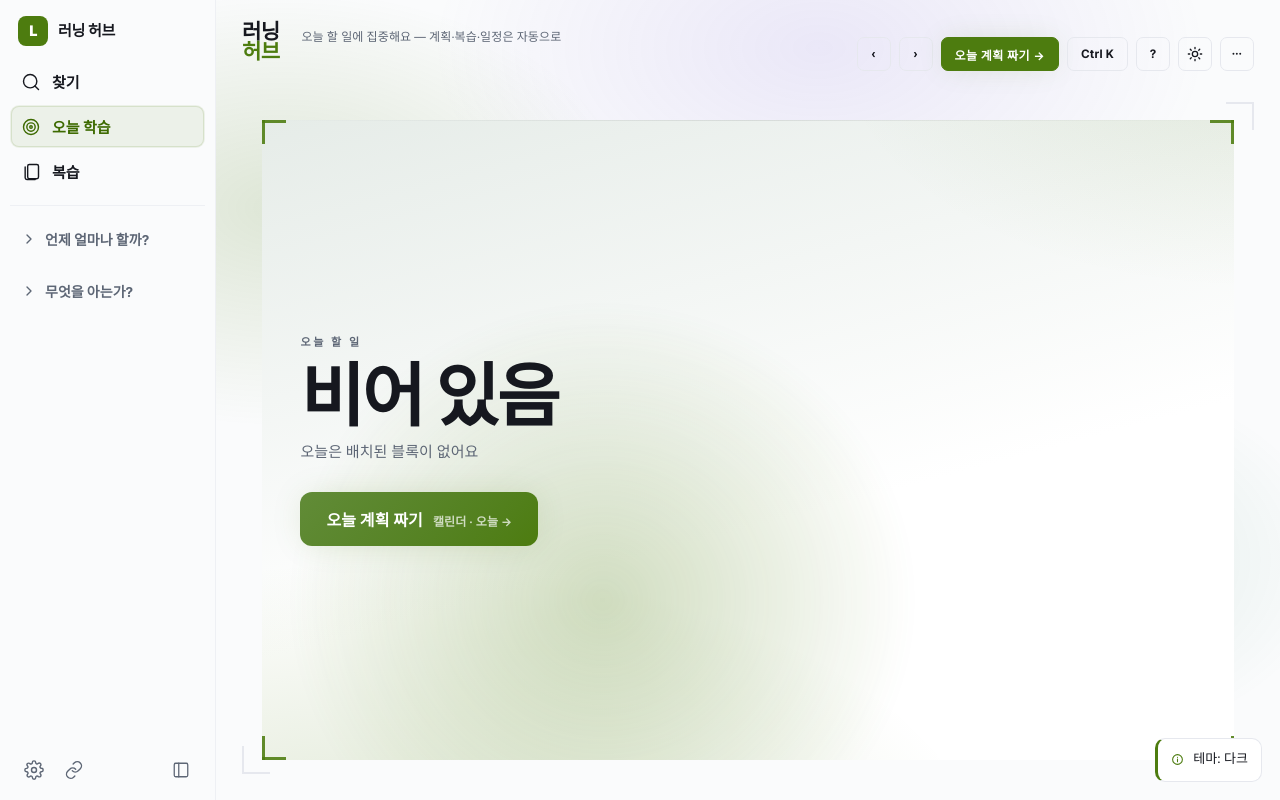
Test case: 확인 모달: 전체 초기화 → 취소하면 데이터가 유지된다
Click the button named "데이터·백업 메뉴" at (1237, 54), box [1220,37,1254,71]
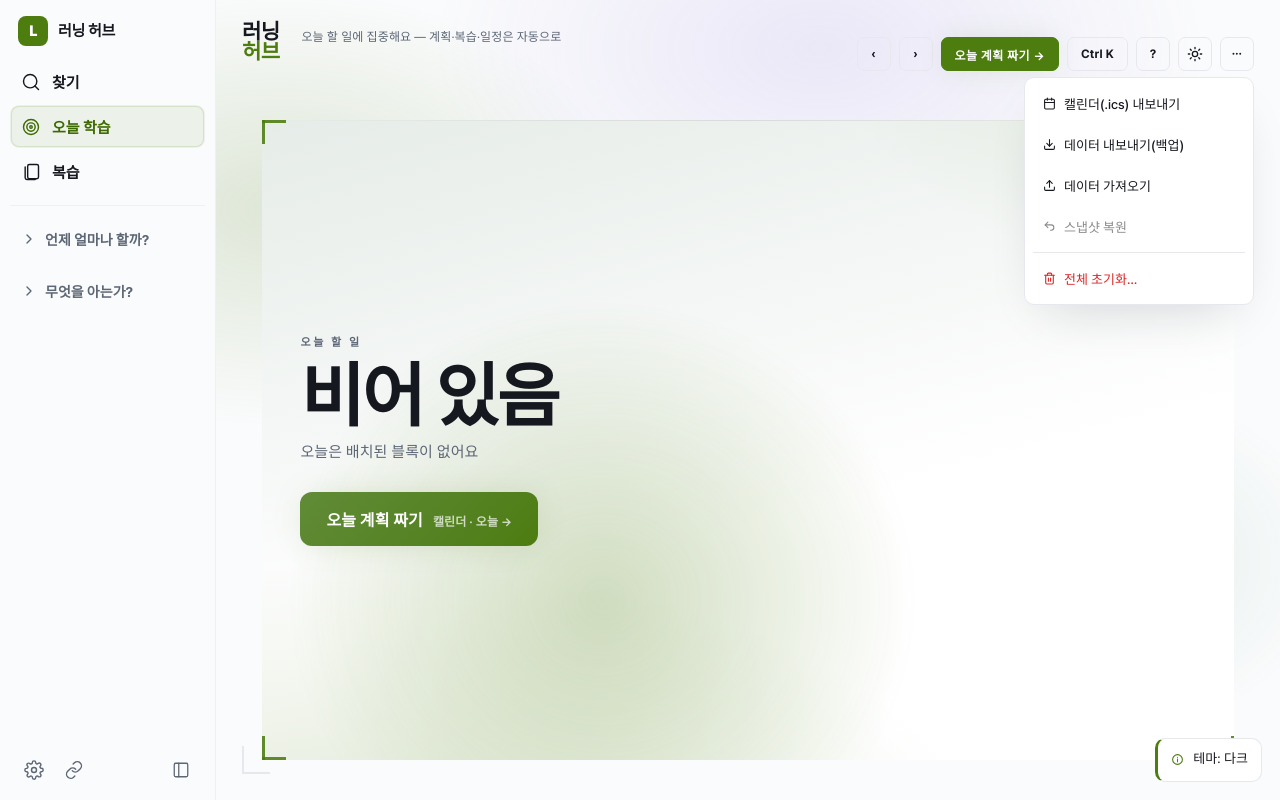
Click the button "전체 초기화…" at (1139, 278), box [1031,259,1247,298]
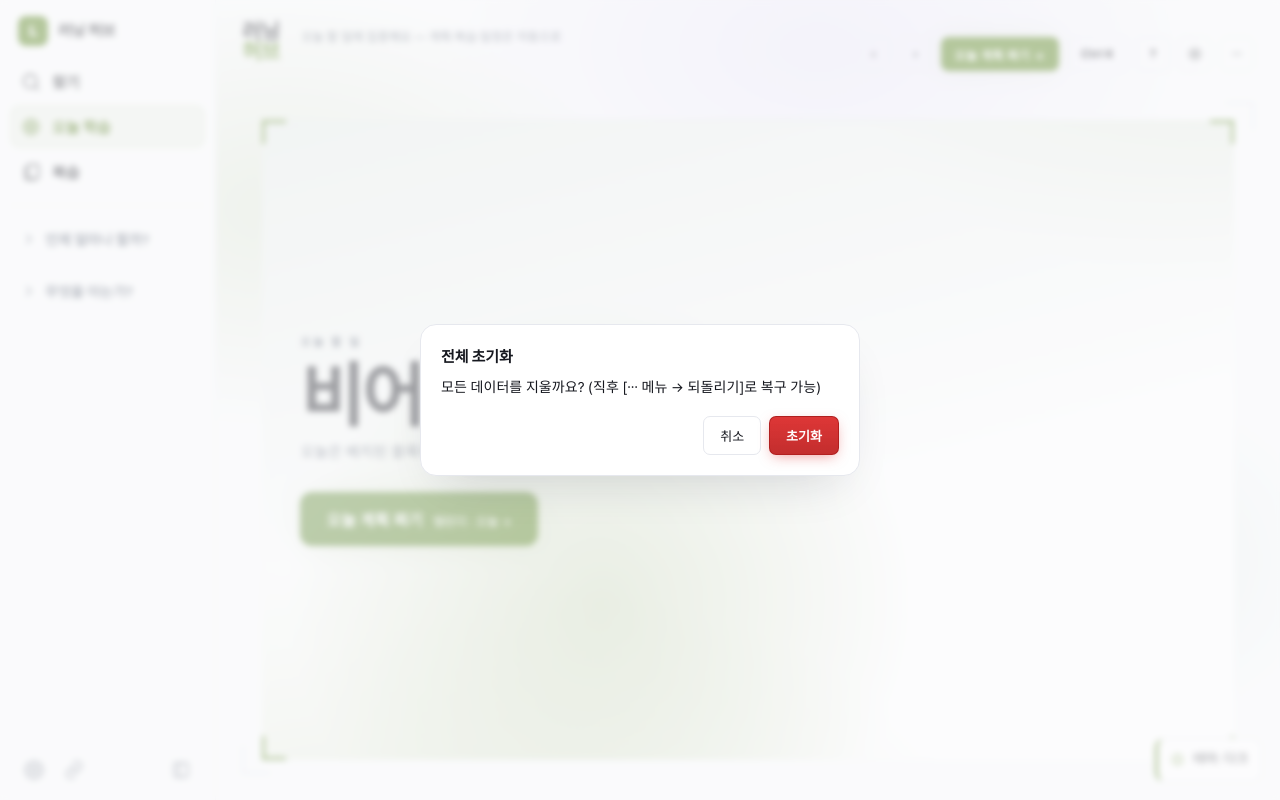
Expected: the text "모든 데이터를 지울까요? (직후 [⋯ 메뉴 → 되돌리기]로 복구 가능)" is shown, [441,376,839,398]
Click the button "취소" at (732, 436), box [703,416,761,455]
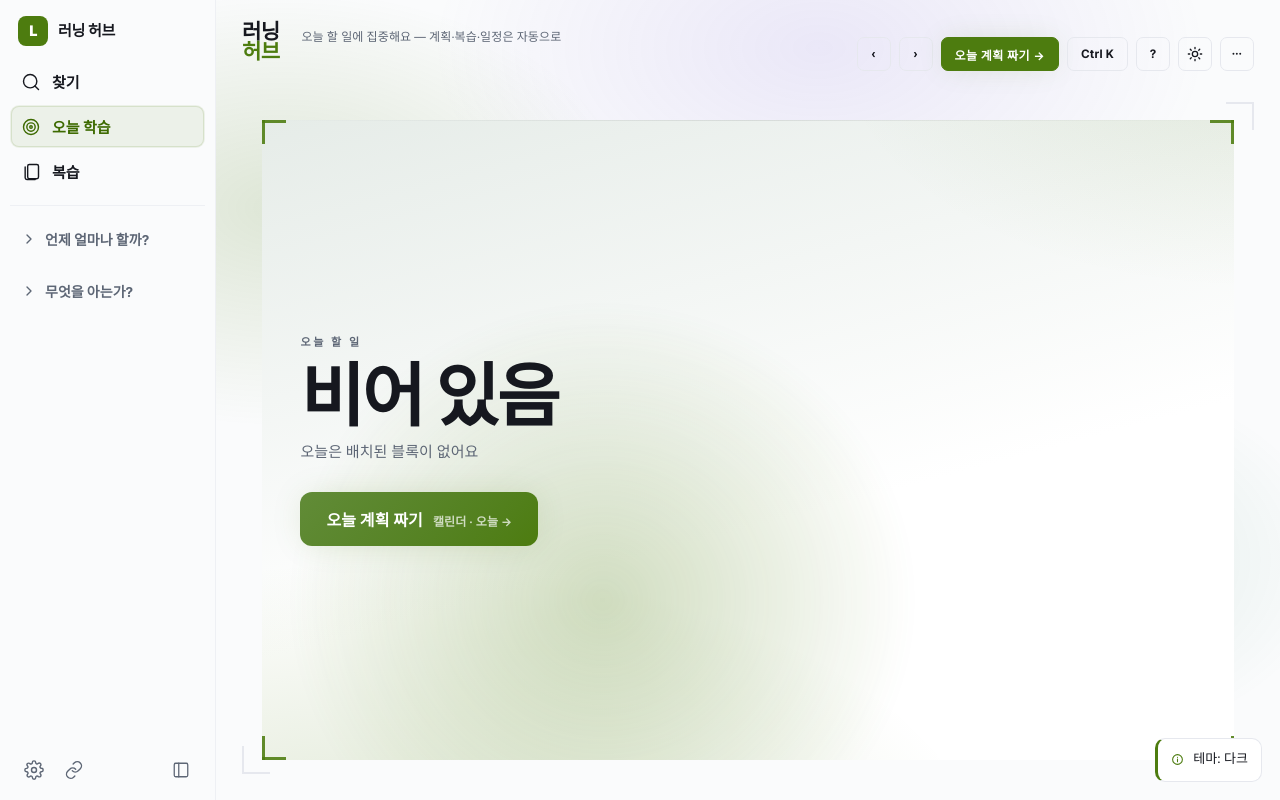
Expected: the text "모든 데이터를 지울까요" is gone
